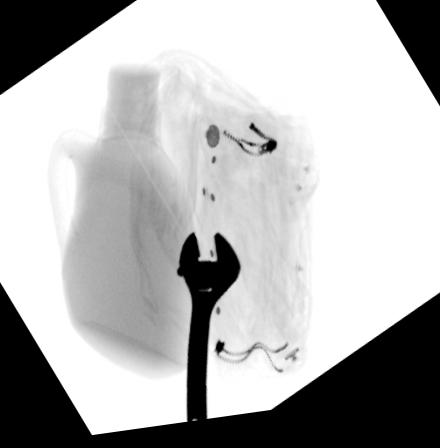Wrench: (174, 235, 243, 427)
